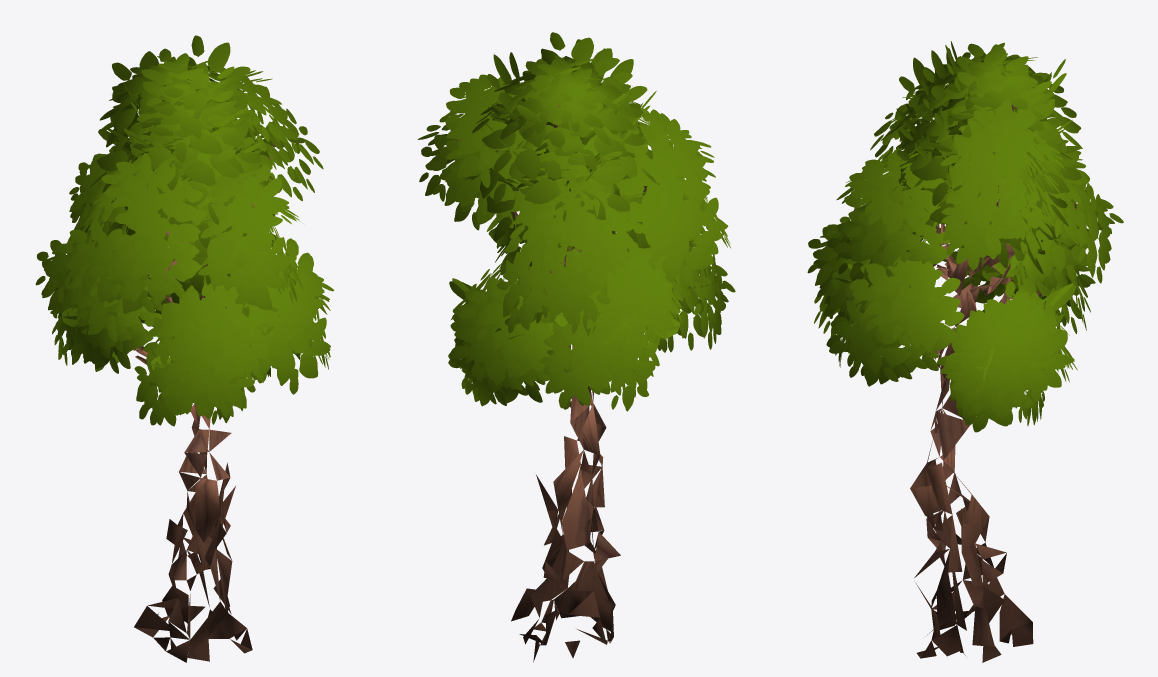
Rendered from pohon.glb.
3 renders of one model, left to right at view 1: azimuth 30°, elevation 25°; view 2: azimuth 150°, elevation 25°; view 3: azimuth 270°, elevation 25°, orthographic. The views are drawn at different scales.
Visible parts, largest first — view 1: CommonTree_1; view 2: CommonTree_1; view 3: CommonTree_1.
Part boxes in pixels (x1,y1,x2,y2): CommonTree_1: (35,35,334,662); CommonTree_1: (417,32,735,662); CommonTree_1: (807,41,1123,662).
Bounding box in the file's own units: 6.51 × 11.97 × 6.41.
2 materials, 2 textured.
